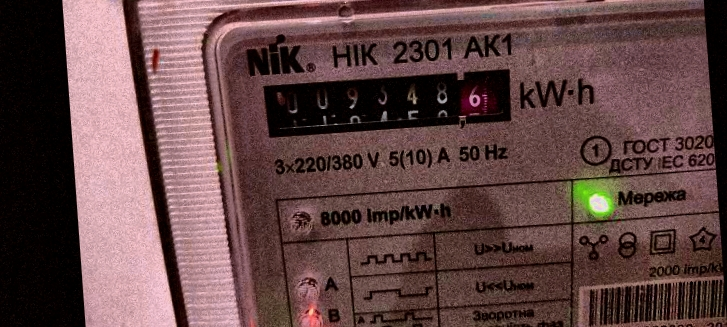0: (282, 88, 300, 116), (313, 83, 329, 110)
3: (374, 80, 389, 106)
4: (401, 76, 421, 107)
6: (464, 79, 483, 110)
8: (433, 77, 450, 106)
9: (344, 84, 360, 112)
screen: (244, 52, 527, 150)
